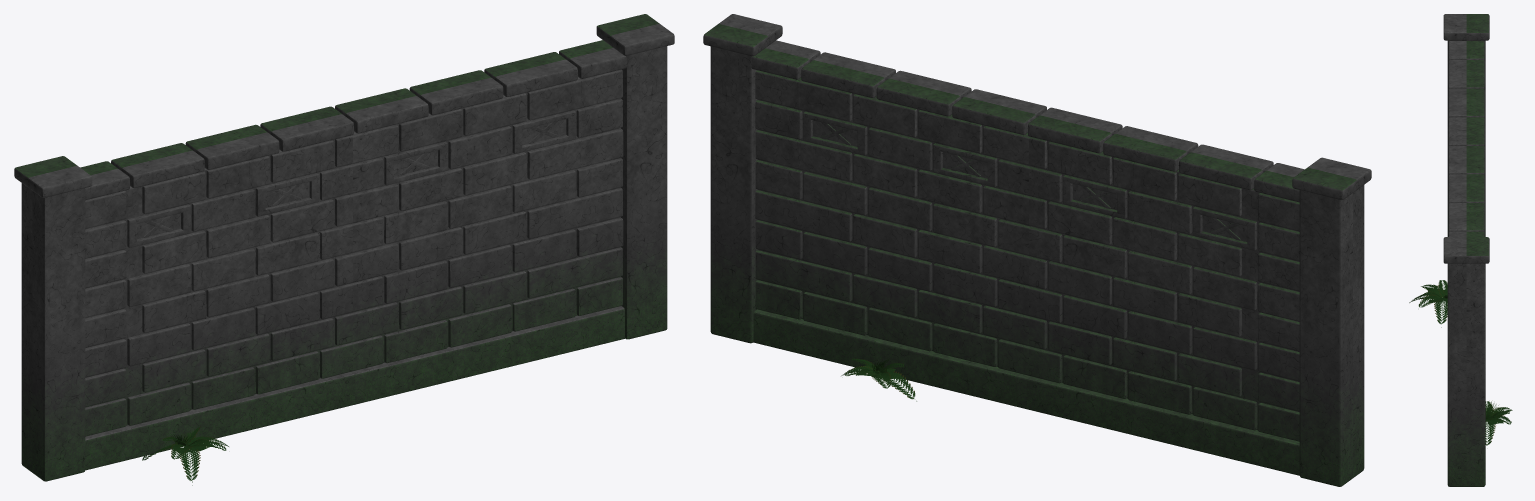
Rendered from ConcreteBlockWall_Segment.fbx.
3 views of the same model, side by side, from view 1: azimuth 30°, elevation 25°; view 2: azimuth 150°, elevation 25°; view 3: azimuth 270°, elevation 25° (orthographic). The views are drawn at different scales.
Parts seen in each view (by area): view 1: ConcreteBlockWall_Segment; view 2: ConcreteBlockWall_Segment; view 3: ConcreteBlockWall_Segment.
Part boxes in pixels (left/top/right/bottom): ConcreteBlockWall_Segment: left=14, top=14, right=674, bottom=485; ConcreteBlockWall_Segment: left=703, top=14, right=1371, bottom=486; ConcreteBlockWall_Segment: left=1409, top=14, right=1512, bottom=486.
Bounding box in the file's own units: 4.24 × 1.99 × 0.8881.
